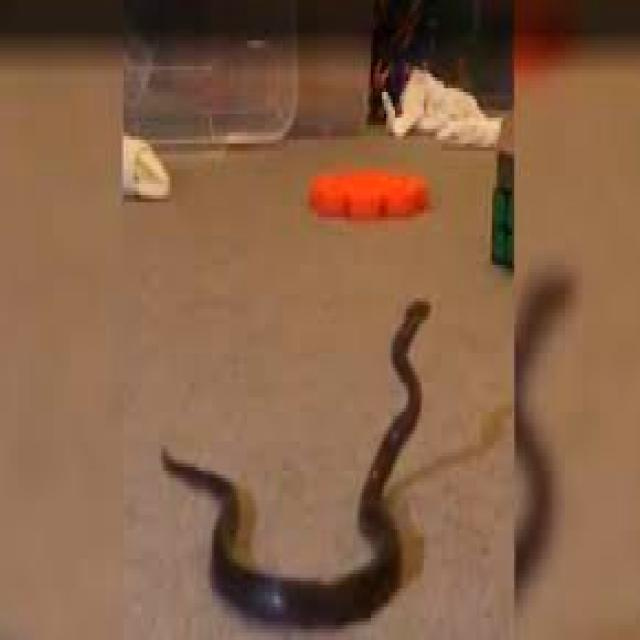snake: (161, 298, 430, 622)
